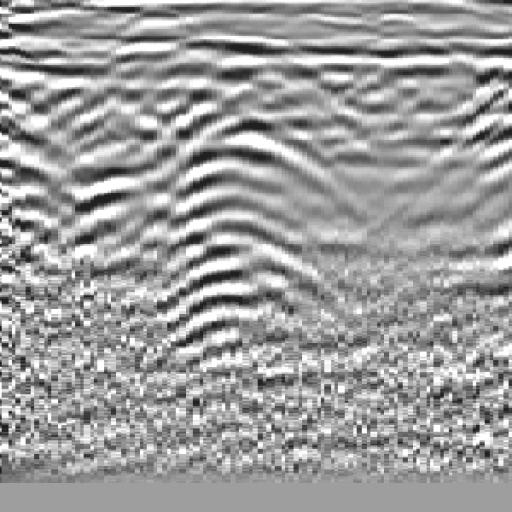metalic: (57, 41, 194, 301)
non-metallic: (143, 62, 340, 364)
nonmetalic: (399, 54, 512, 313)
